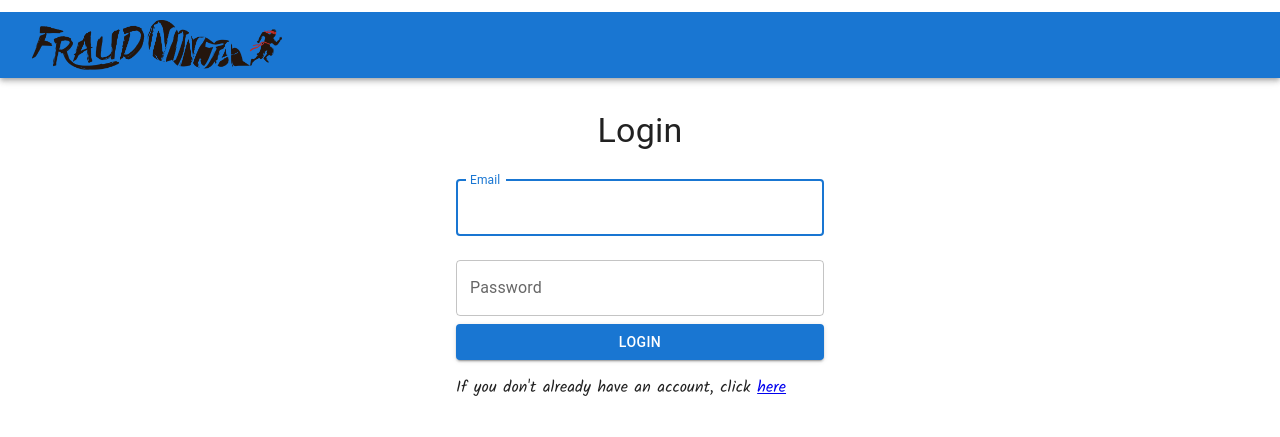
Non Sign In Navigation › stays at the login page when no credentials are given and login button is clicked
Click the button "Login" at {"x": 640, "y": 342}, box [456,324,824,360]
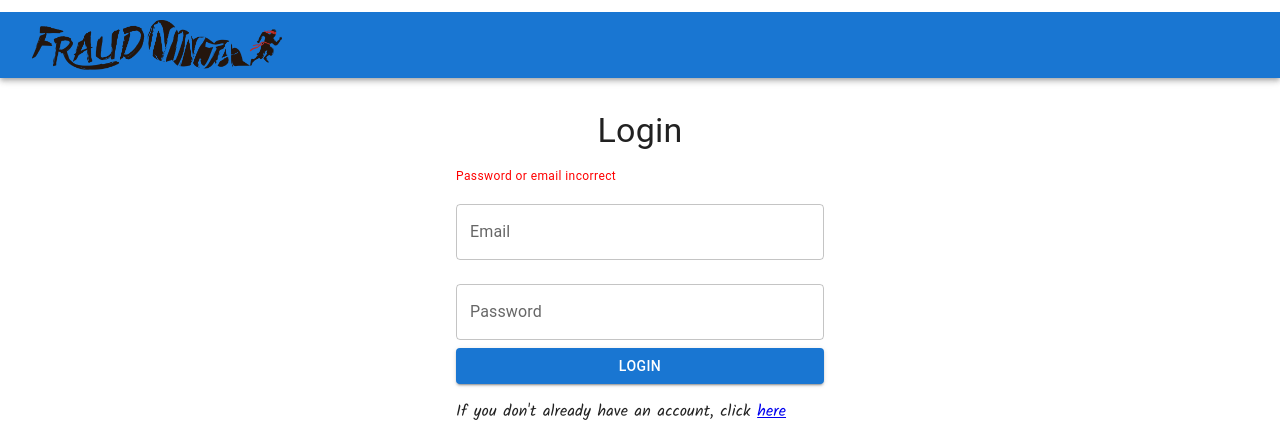
Expected: the text "Password or email incorrect" is shown, [456,169,616,183]
